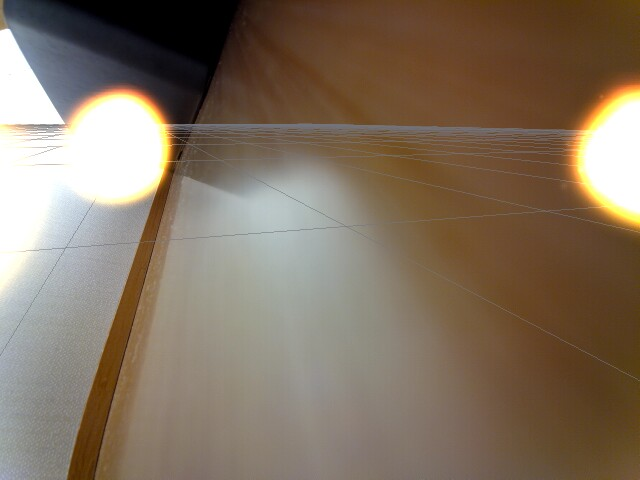firebig: (58, 73, 185, 214)
